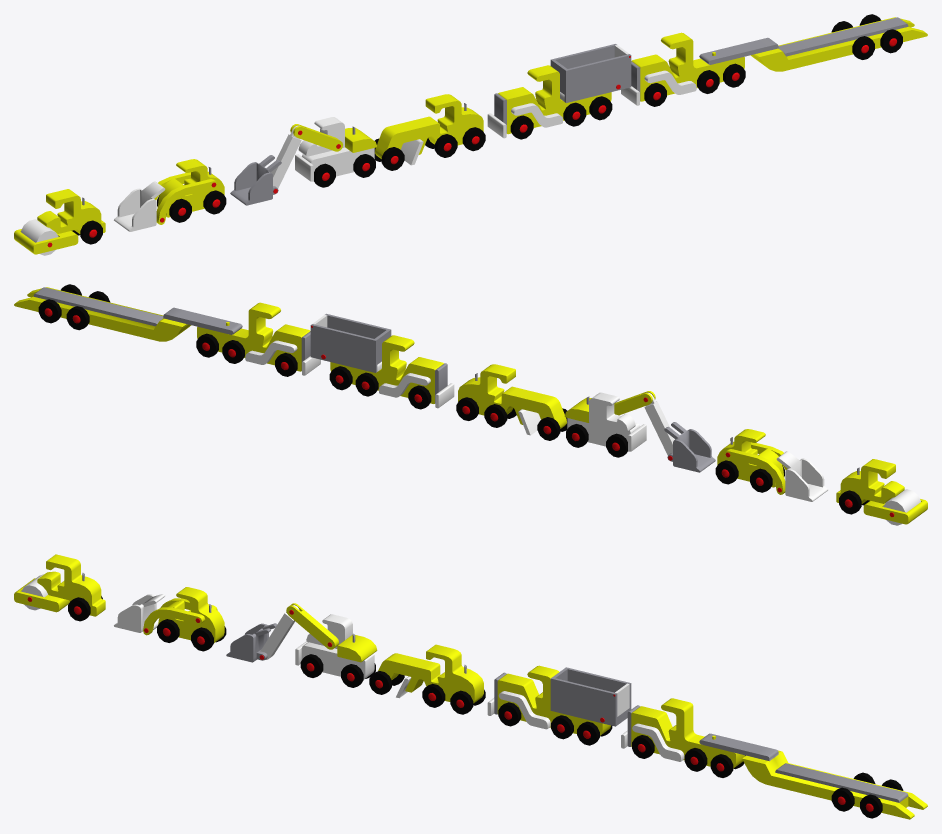
Rendered from ConstructionToys_low.fbx.
3 renders of one model, top to bottom at view 1: azimuth 30°, elevation 25°; view 2: azimuth 150°, elevation 25°; view 3: azimuth 330°, elevation 25°, orthographic.
Parts seen in each view (by area): view 1: Tractor_Trailer_low, DumpTruck_Bed_low, RoadScraper_low, Tractor_low, DumpTruck_low, Roller_low, Bobcat_Bucket_low, PowerShovel_Bucket_low, Bobcat_low, Bobcat_Arm_low, PowerShovel_low, Roller_Front_low (+9 smaller); view 2: Tractor_Trailer_low, DumpTruck_Bed_low, RoadScraper_low, Tractor_low, DumpTruck_low, Roller_low, PowerShovel_Bucket_low, Bobcat_Bucket_low, Bobcat_low, PowerShovel_Cab_low, Bobcat_Arm_low, Roller_Front_low (+9 smaller); view 3: Tractor_Trailer_low, DumpTruck_Bed_low, RoadScraper_low, Tractor_low, DumpTruck_low, Roller_low, Bobcat_low, PowerShovel_low, PowerShovel_Bucket_low, Bobcat_Bucket_low, Bobcat_Arm_low, PowerShovel_Arm1_low (+8 smaller).
Boxes of the visible parts, left/top/right/bottom form: Tractor_Trailer_low: left=699, top=17, right=927, bottom=71; DumpTruck_Bed_low: left=550, top=44, right=631, bottom=102; RoadScraper_low: left=375, top=94, right=483, bottom=158; Tractor_low: left=631, top=32, right=744, bottom=101; DumpTruck_low: left=494, top=65, right=611, bottom=134; Roller_low: left=37, top=189, right=105, bottom=233; Bobcat_Bucket_low: left=114, top=181, right=165, bottom=231; PowerShovel_Bucket_low: left=230, top=155, right=281, bottom=205; Bobcat_low: left=157, top=159, right=224, bottom=217; Bobcat_Arm_low: left=154, top=172, right=217, bottom=224; PowerShovel_low: left=302, top=147, right=374, bottom=181; Roller_Front_low: left=14, top=229, right=78, bottom=254; Tractor_Trailer_low: left=14, top=287, right=242, bottom=341; DumpTruck_Bed_low: left=310, top=313, right=391, bottom=372; RoadScraper_low: left=458, top=364, right=566, bottom=428; Tractor_low: left=197, top=302, right=310, bottom=371; DumpTruck_low: left=330, top=335, right=447, bottom=403; Roller_low: left=836, top=459, right=904, bottom=503; PowerShovel_Bucket_low: left=664, top=422, right=715, bottom=472; Bobcat_Bucket_low: left=776, top=451, right=827, bottom=501; Bobcat_low: left=717, top=429, right=784, bottom=487; PowerShovel_Cab_low: left=589, top=392, right=635, bottom=432; Bobcat_Arm_low: left=724, top=442, right=787, bottom=494; Roller_Front_low: left=863, top=499, right=927, bottom=524; Tractor_Trailer_low: left=699, top=733, right=927, bottom=819; DumpTruck_Bed_low: left=550, top=667, right=631, bottom=726; RoadScraper_low: left=378, top=644, right=483, bottom=703; Tractor_low: left=627, top=698, right=744, bottom=768; DumpTruck_low: left=494, top=665, right=610, bottom=735; Roller_low: left=37, top=554, right=105, bottom=616; Bobcat_low: left=158, top=587, right=224, bottom=642; PowerShovel_low: left=301, top=642, right=374, bottom=679; PowerShovel_Bucket_low: left=226, top=623, right=277, bottom=662; Bobcat_Bucket_low: left=114, top=594, right=165, bottom=632; Bobcat_Arm_low: left=143, top=598, right=217, bottom=635; PowerShovel_Arm1_low: left=286, top=603, right=338, bottom=649.
Size of the model in its own units: 262 by 17.61 by 12.31.
